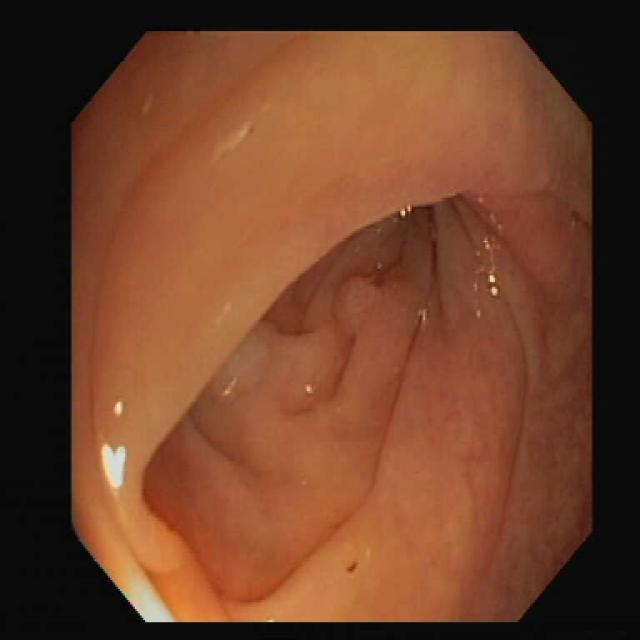tumor: (268, 320, 353, 413), (337, 278, 378, 329)
